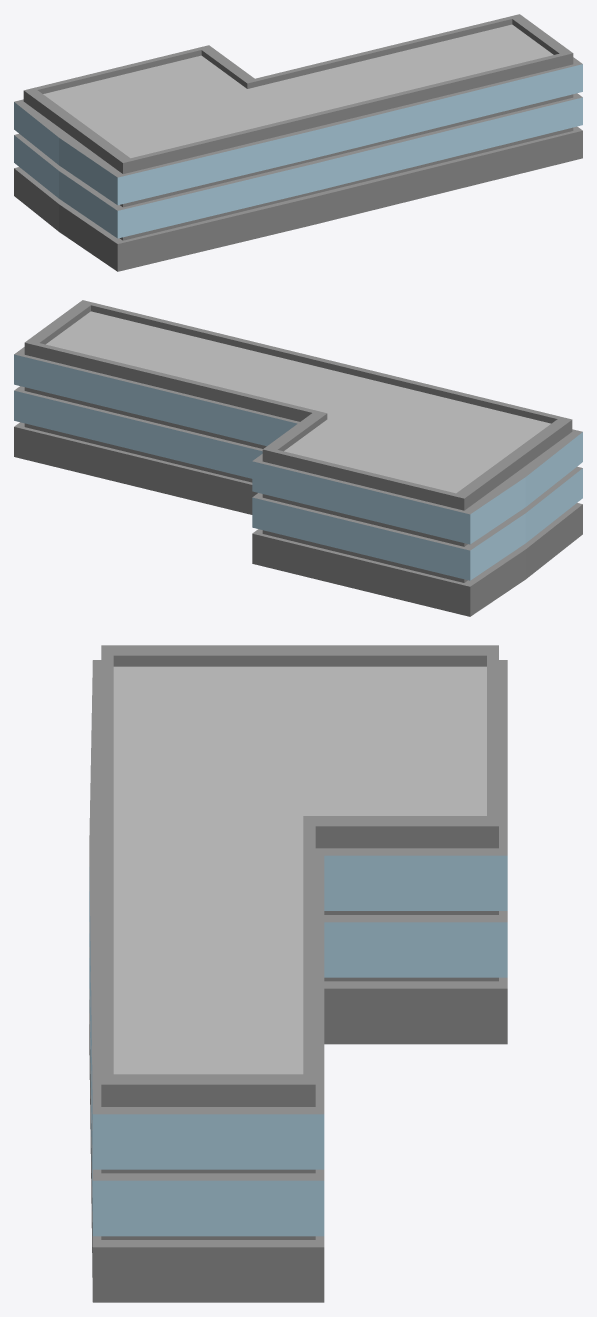
Rendered from LOfffice.fbx.
3 views of the same model, one above another, from view 1: azimuth 30°, elevation 25°; view 2: azimuth 150°, elevation 25°; view 3: azimuth 270°, elevation 25° (orthographic). The views are drawn at different scales.
Parts seen in each view (by area): view 1: LOffice; view 2: LOffice; view 3: LOffice.
Boxes of the visible parts, bbox=[...] form: LOffice: bbox=[14, 14, 582, 271]; LOffice: bbox=[14, 300, 582, 616]; LOffice: bbox=[89, 645, 507, 1302].
Bounding box in the file's own units: 8841 × 1900 × 3421.
